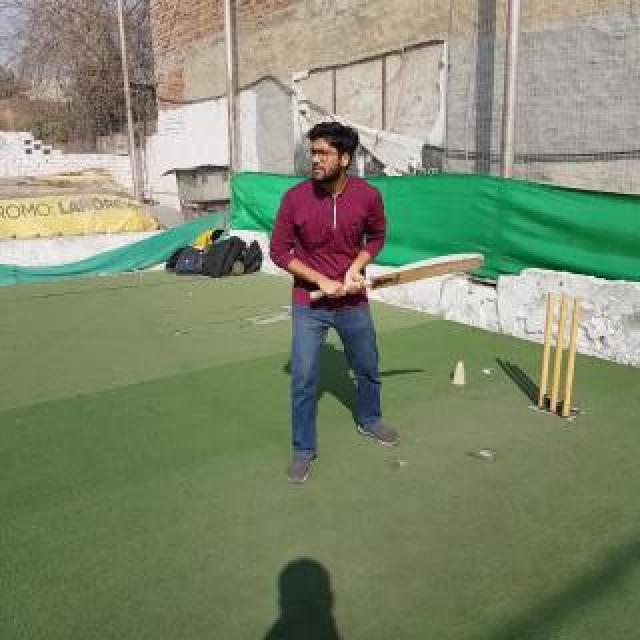bat: (310, 252, 486, 300)
